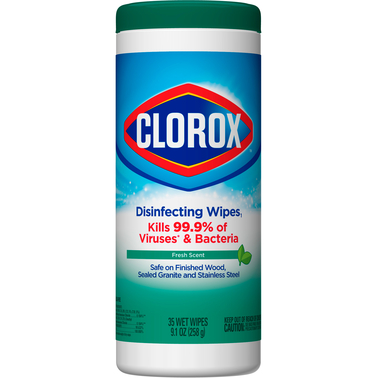Wipes: (112, 1, 265, 378)
